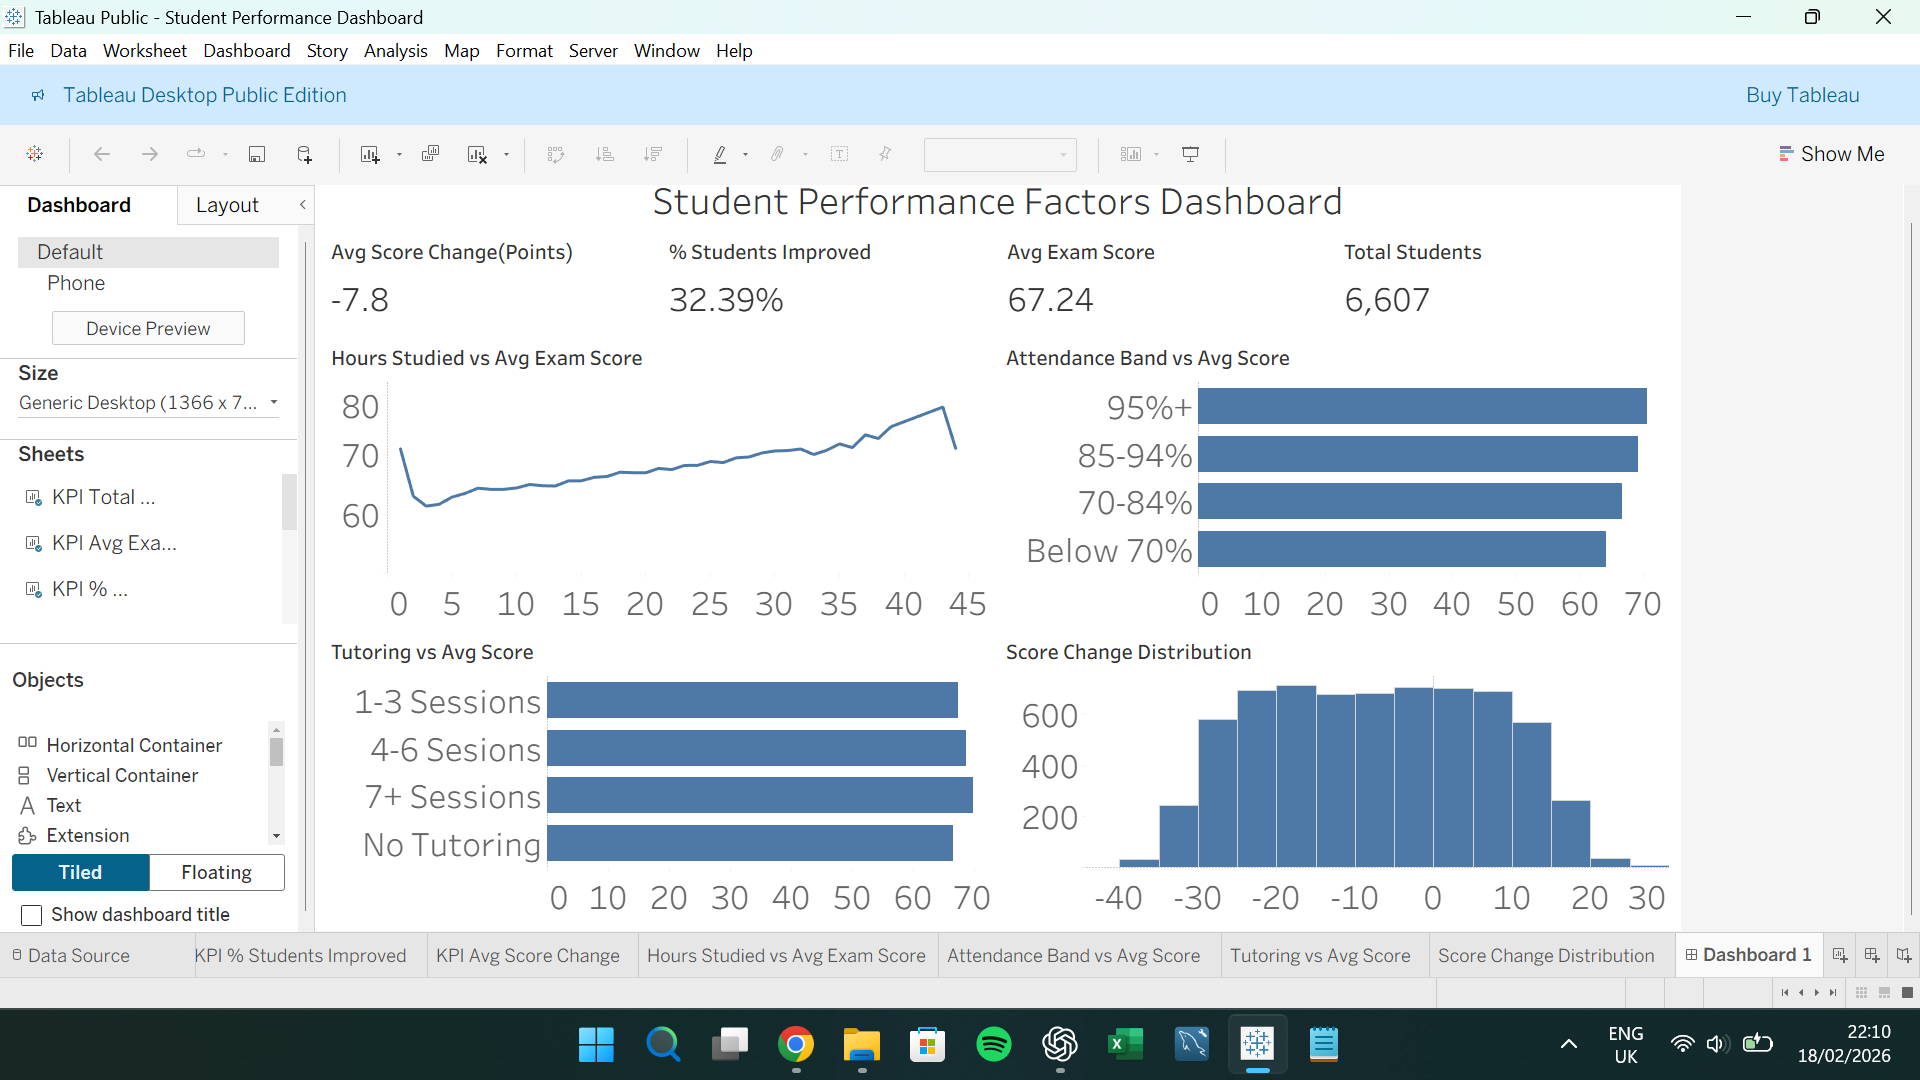

What the dashboard file says about the page in this screenshot:
{"tool":"tableau","page":{"name":"Dashboard 1","canvas":[1366,768],"ordinal":0},"visuals":[{"type":"title","box":[8,8,1350,58]},{"type":"worksheet","title":"KPI Avg Score Change","mark":"Automatic","box":[8,66,338,106]},{"type":"worksheet","title":"KPI % Students Improved","mark":"Automatic","box":[346,66,338,106]},{"type":"worksheet","title":"KPI Avg Exam Score","mark":"Automatic","box":[684,66,337,106]},{"type":"worksheet","title":"KPI Total Students","mark":"Automatic","box":[1021,66,337,106]},{"type":"worksheet","title":"Hours Studied vs Avg Exam Score","mark":"Automatic","rows":["Exam_Score"],"cols":["Hours_Studied"],"box":[8,172,675,294]},{"type":"worksheet","title":"Attendance Band vs Avg Score","mark":"Automatic","rows":["Calculation_1366457679978497"],"cols":["Exam_Score"],"box":[683,172,675,294]},{"type":"worksheet","title":"Tutoring vs Avg Score","mark":"Automatic","rows":["Calculation_1366457683738626"],"cols":["Exam_Score"],"box":[8,466,675,294]},{"type":"worksheet","title":"Score Change Distribution","mark":"Automatic","rows":["student_performance_sql.csv_ACC0227CD0A041CC889683809ED45EA6"],"cols":["Score Change (bin)"],"box":[683,466,675,294]}]}

Visuals, with their boxes on the page's 1366x768 design canvas (x1, y1, x2, y2). These are canvas units, not pixel positions in the 1920x1080 screenshot, which may show the page scaled, cropped or inside an application window:
title: (left=8, top=8, right=1358, bottom=66)
"KPI Avg Score Change" worksheet: (left=8, top=66, right=346, bottom=172)
"KPI % Students Improved" worksheet: (left=346, top=66, right=684, bottom=172)
"KPI Avg Exam Score" worksheet: (left=684, top=66, right=1021, bottom=172)
"KPI Total Students" worksheet: (left=1021, top=66, right=1358, bottom=172)
"Hours Studied vs Avg Exam Score" worksheet: (left=8, top=172, right=683, bottom=466)
"Attendance Band vs Avg Score" worksheet: (left=683, top=172, right=1358, bottom=466)
"Tutoring vs Avg Score" worksheet: (left=8, top=466, right=683, bottom=760)
"Score Change Distribution" worksheet: (left=683, top=466, right=1358, bottom=760)
